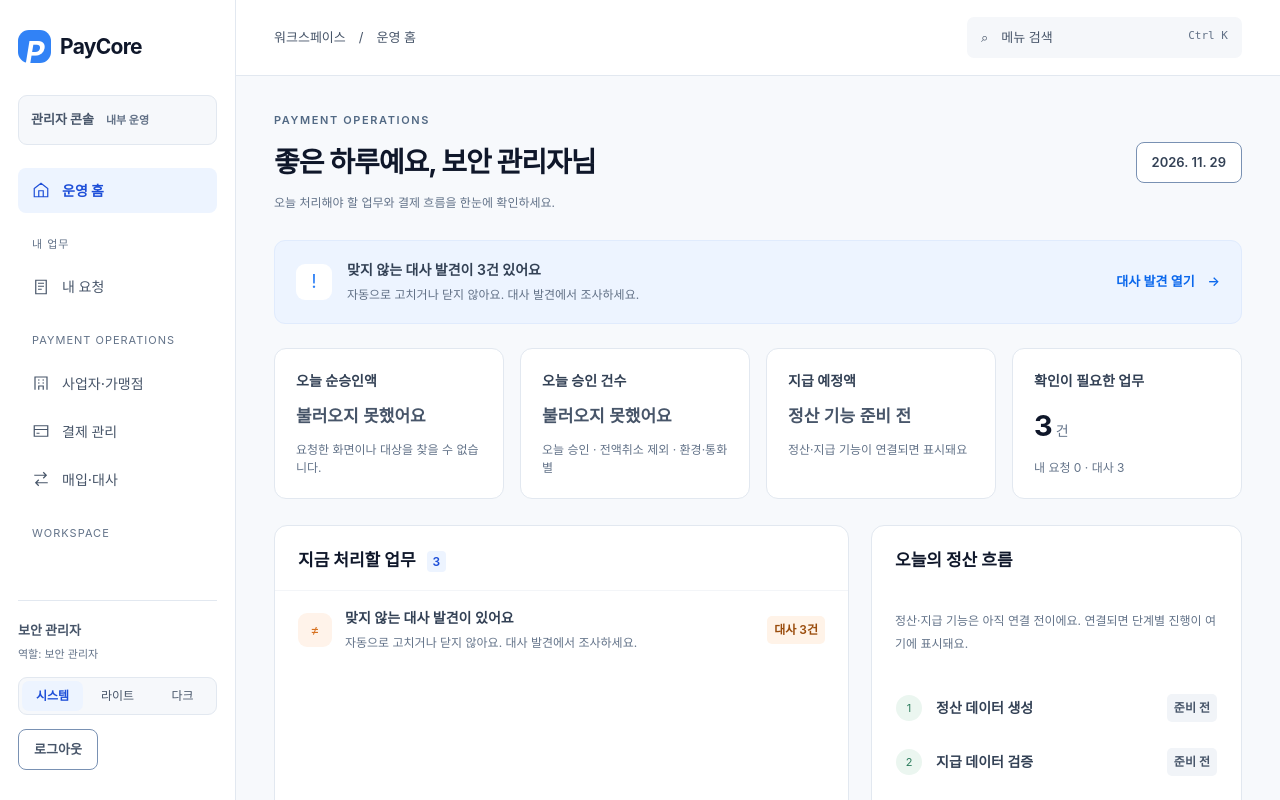
ADMIN-UI-WORKSPACE-001: 매입·대사 › 대사 발견 in the reference list layout › flush in the menu card: tabpanel > .mapnote(h2) → .cardtop(h3 open count) → .cardbody(kinds as tags, last run) → .tablewrap → .tablebottom
Click the button "매입·대사" at (118, 479), box [18,456,217,502]
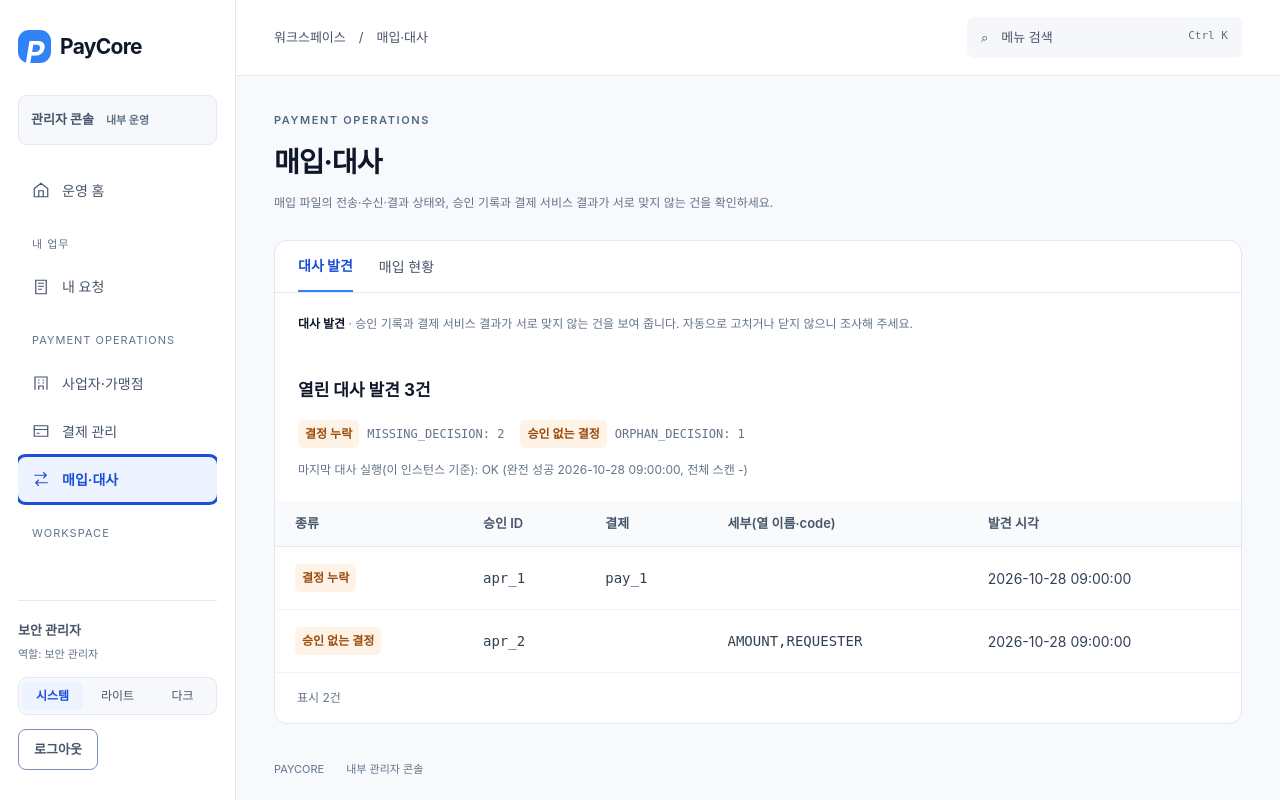
expect the heading "대사 발견" is shown: met, box [298,316,345,331]
expect the heading "열린 대사 발견 3건" is shown: met, box [298,378,430,403]
expect the element with class "tablebottom" reads "표시 2건": met, box [297,690,341,705]
